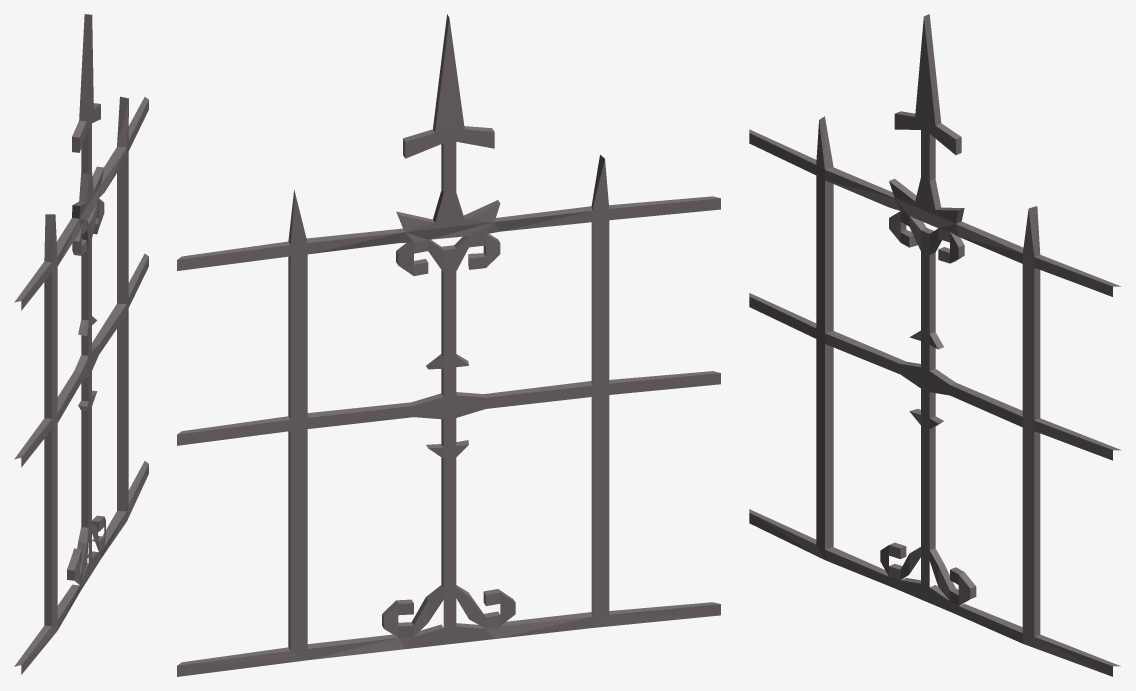
The picture shows the model from 3 angles, left to right: view 1: azimuth 30°, elevation 25°; view 2: azimuth 150°, elevation 25°; view 3: azimuth 270°, elevation 25°; orthographic projection. The views are drawn at different scales.
Size of the model in its own units: 128 by 222 by 128.
Materials: 1 (1 with a texture image).
